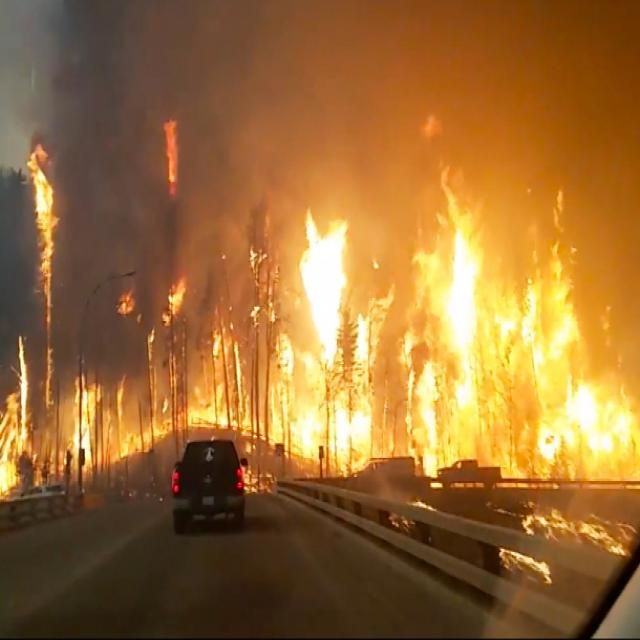Fire: (335, 194, 640, 481), (290, 223, 345, 458), (0, 342, 31, 495), (27, 147, 52, 308), (81, 393, 135, 467)
